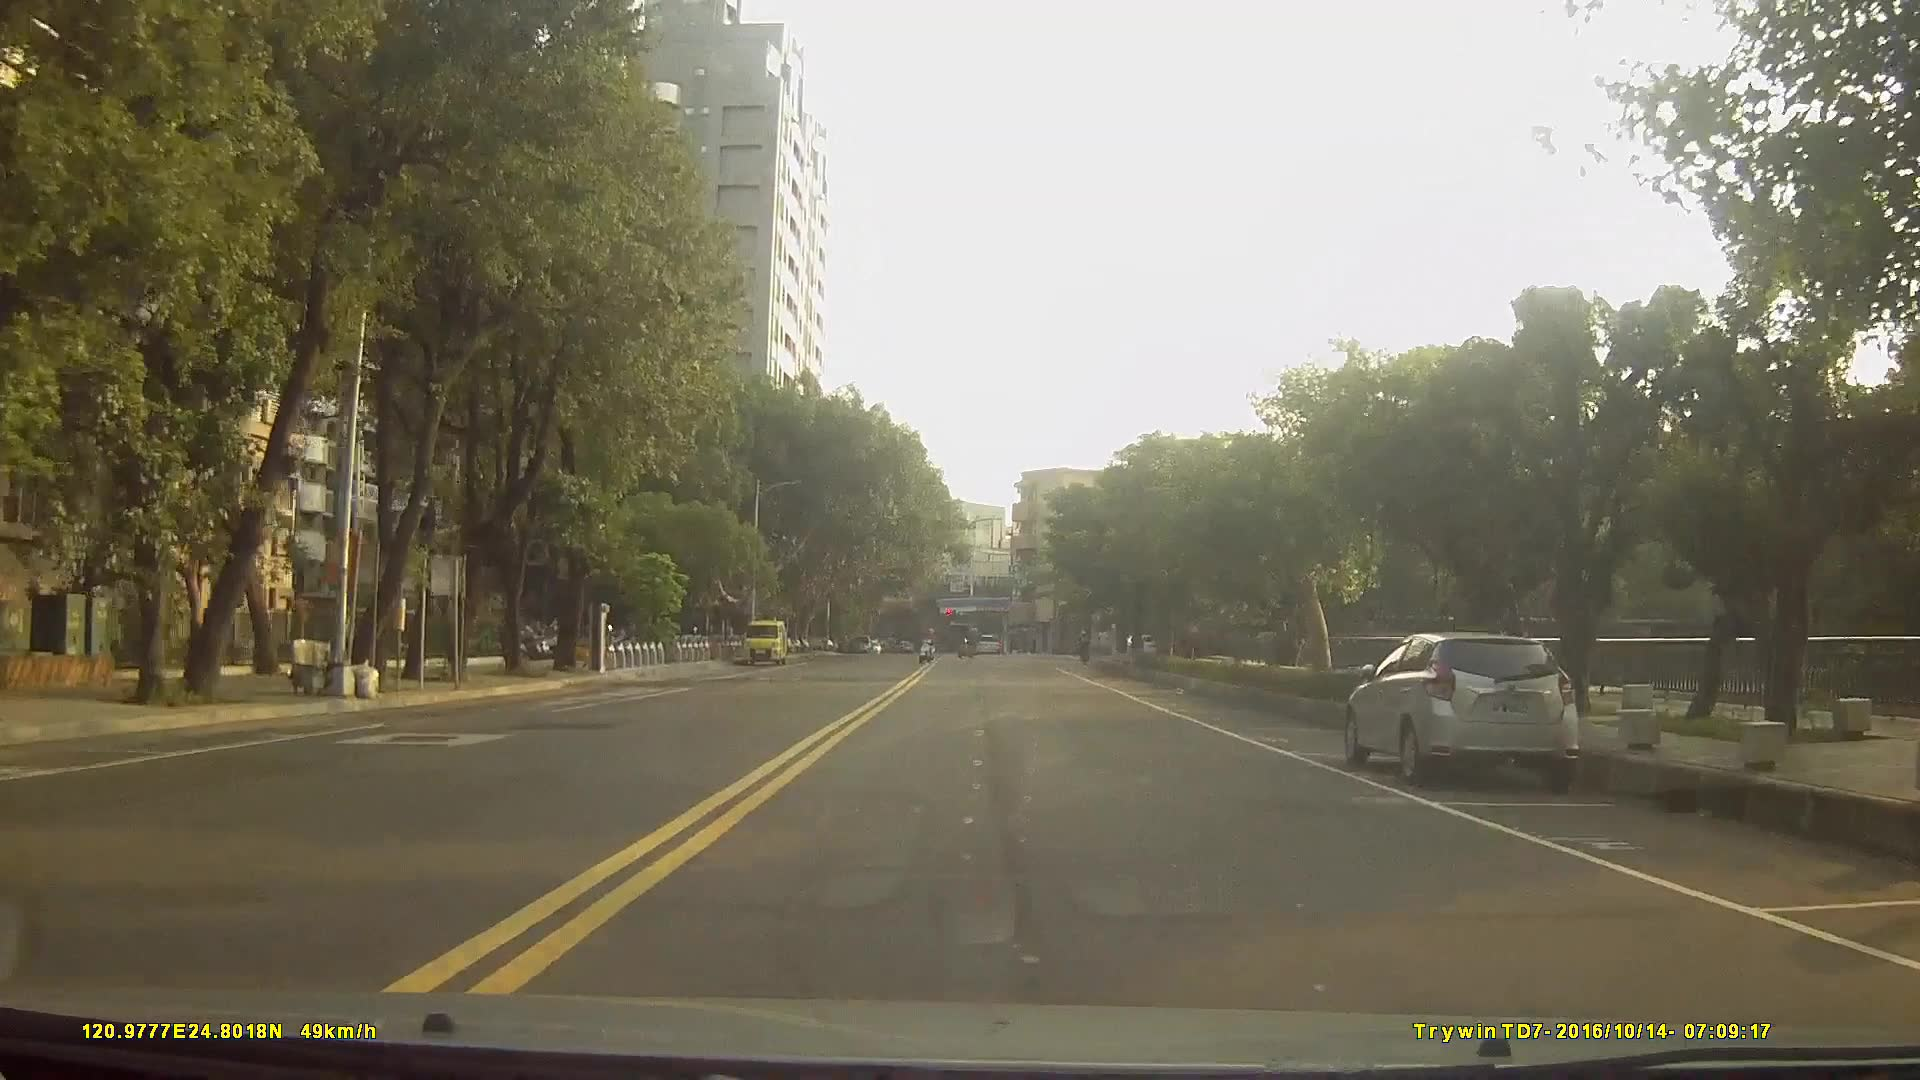rider: (917, 624, 940, 661), (958, 626, 980, 659)
vehicle: (1342, 626, 1583, 793), (976, 629, 1003, 654)
